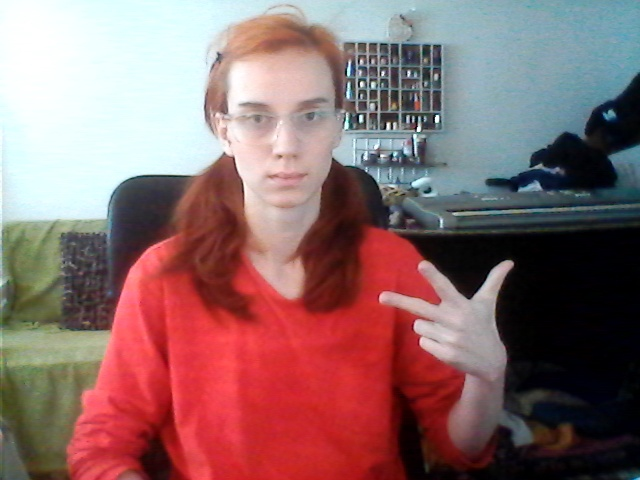tri: (375, 250, 518, 388)
